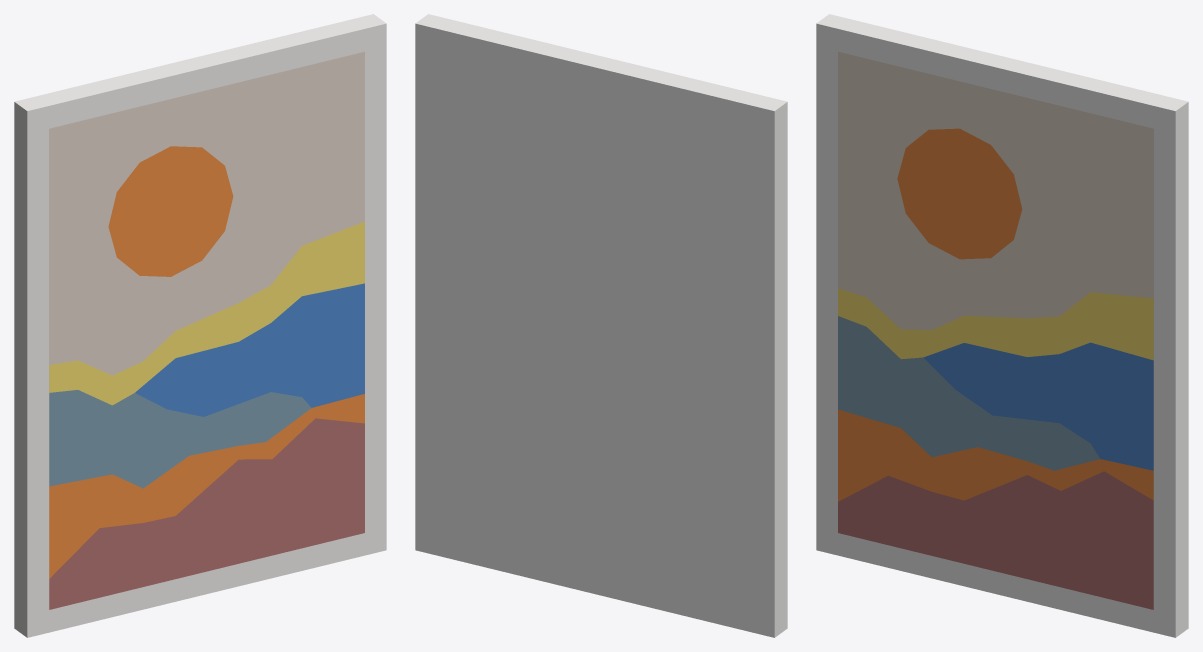
File: Picture_1.glb
The picture shows the model from 3 angles, left to right: view 1: azimuth 30°, elevation 25°; view 2: azimuth 150°, elevation 25°; view 3: azimuth 330°, elevation 25°; orthographic projection.
Parts seen in each view (by area): view 1: Picture_1; view 2: Picture_1; view 3: Picture_1.
Boxes of the visible parts, box(x1,y1,x2,y2) form: Picture_1: box(14, 14, 386, 637); Picture_1: box(415, 14, 787, 637); Picture_1: box(816, 14, 1188, 637).
Size of the model in its own units: 0.4139 by 0.5797 by 0.0264.
Materials: 1 (1 with a texture image).
